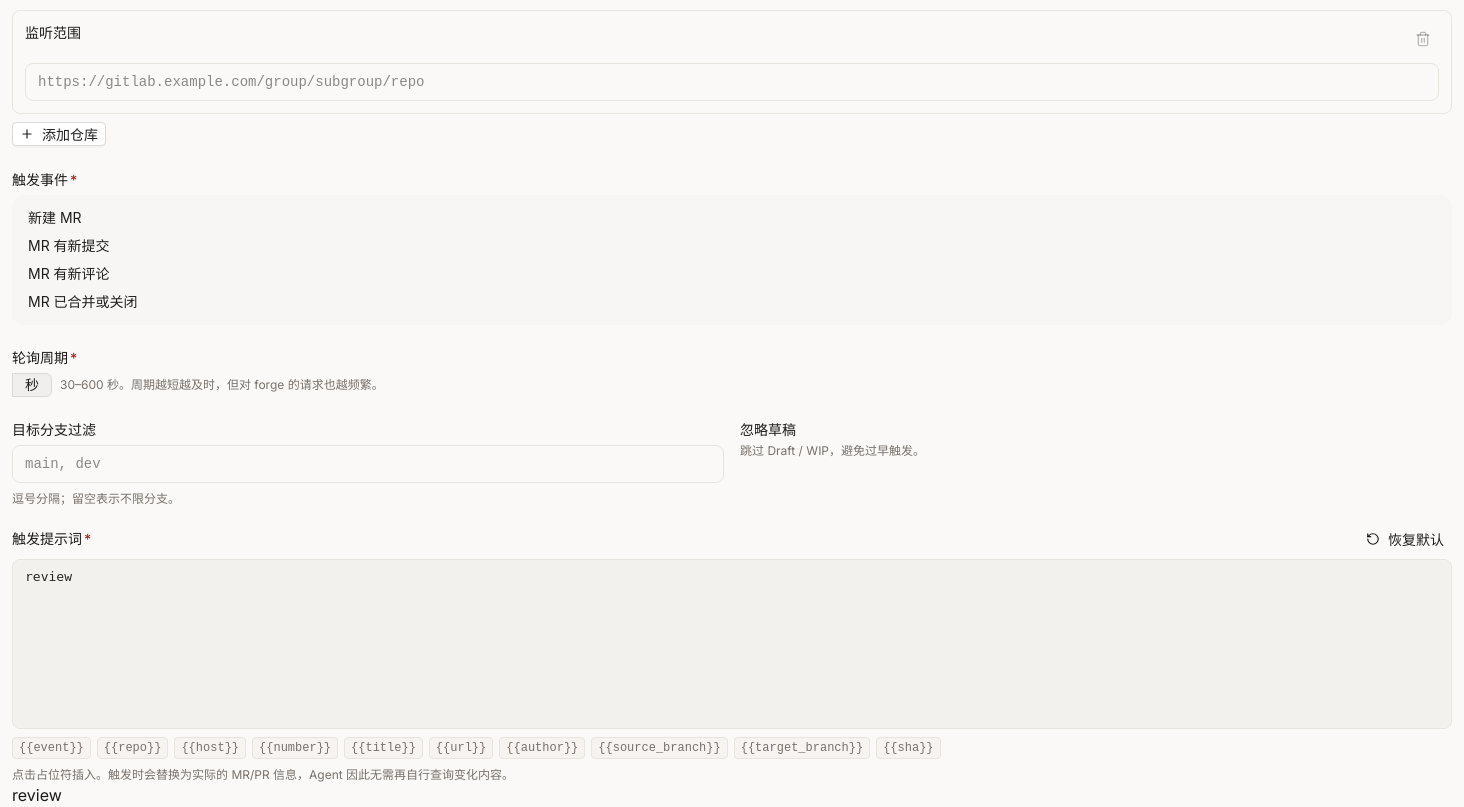
Scenario: git trigger intent editor › appends a placeholder when its chip is clicked
(page scrolled)
Click the button "{{title}}" at {"x": 383, "y": 748}, box [344,737,423,759]
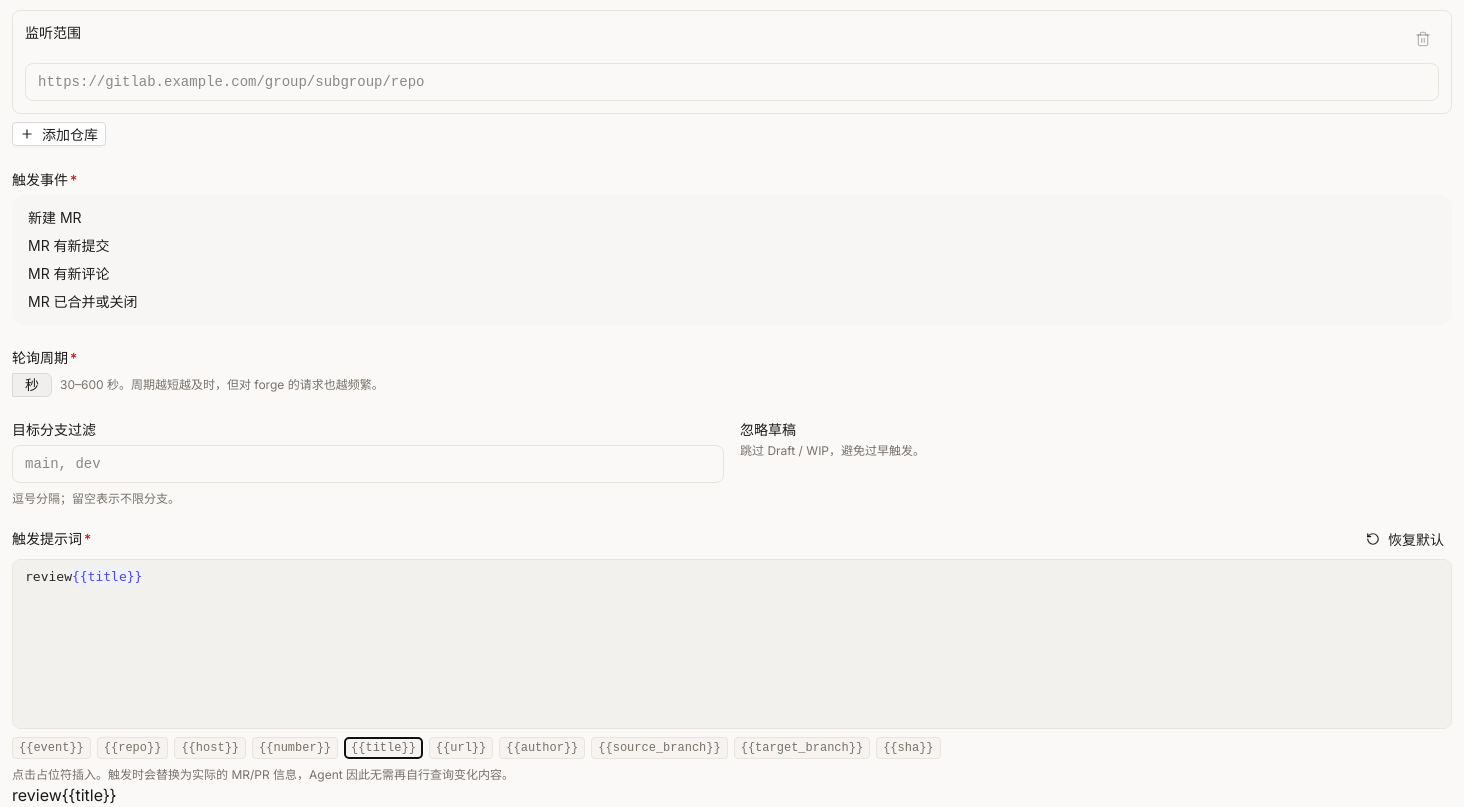
Expected: the text with test id "intent-value" reads "review{{title}}", [12,785,116,805]
